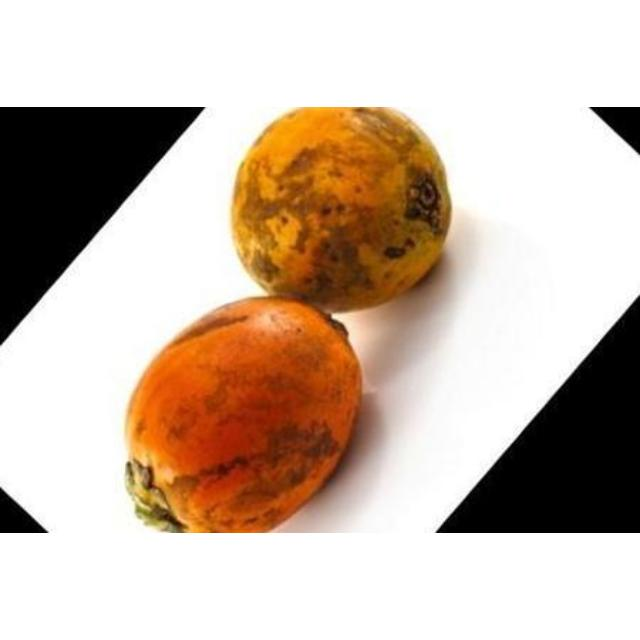good: (124, 298, 364, 532), (230, 107, 452, 316)
